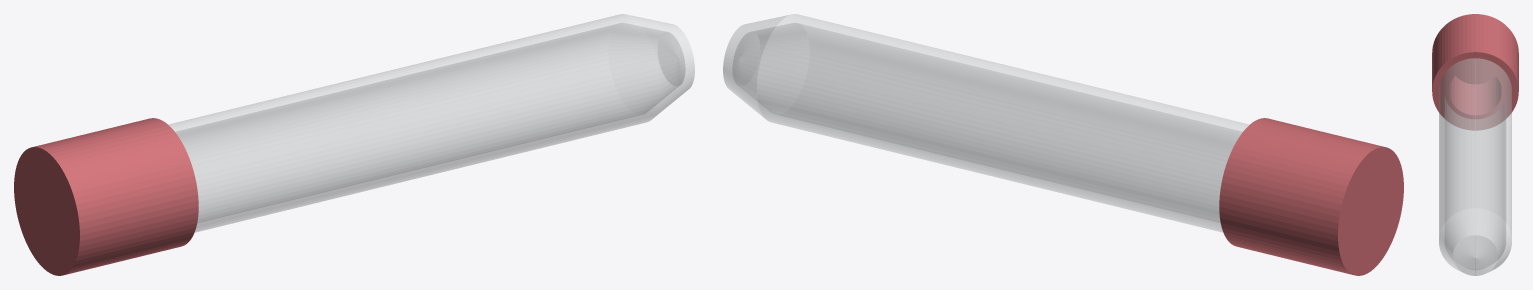
The picture shows the model from 3 angles, left to right: view 1: azimuth 30°, elevation 25°; view 2: azimuth 150°, elevation 25°; view 3: azimuth 270°, elevation 25°; orthographic projection. The views are drawn at different scales.
Visible parts, largest first — view 1: g0, g1; view 2: g0, g1; view 3: g0, g1.
Boxes of the visible parts, <box> form: g0: <box>168,14,694,232</box>; g1: <box>14,118,198,275</box>; g0: <box>723,14,1249,232</box>; g1: <box>1219,118,1403,275</box>; g0: <box>1439,58,1511,275</box>; g1: <box>1432,14,1518,130</box>.
Size of the model in its own units: 0.086 by 0.0154 by 0.0154.
